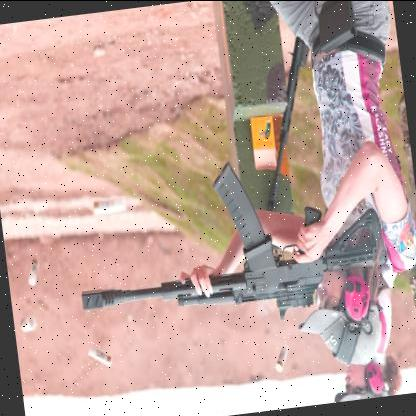rifle: (65, 143, 393, 340)
